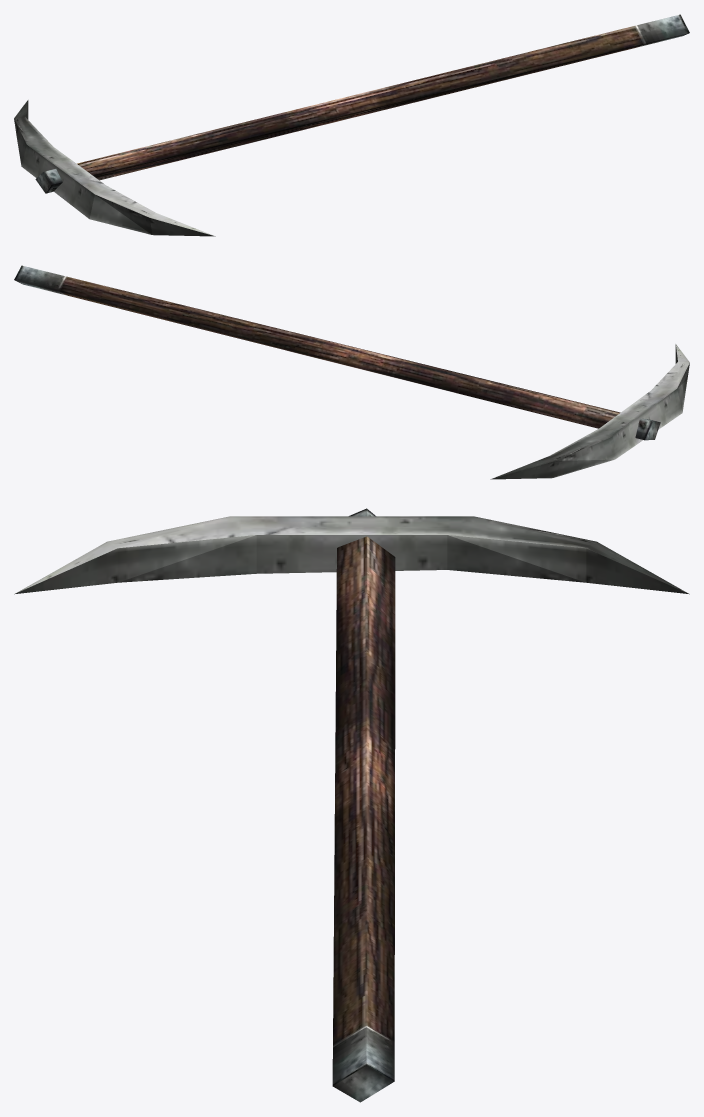
File: ITMW_020_2H_PICKAXE_01.glb
The picture shows the model from 3 angles, top to bottom: view 1: azimuth 30°, elevation 25°; view 2: azimuth 150°, elevation 25°; view 3: azimuth 270°, elevation 25°; orthographic projection. The views are drawn at different scales.
Parts seen in each view (by area): view 1: ITMW_020_2H_PICKAXE_01; view 2: ITMW_020_2H_PICKAXE_01; view 3: ITMW_020_2H_PICKAXE_01.
Boxes of the visible parts, x1,y1,x2,y2 form: ITMW_020_2H_PICKAXE_01: (14, 14, 689, 236); ITMW_020_2H_PICKAXE_01: (14, 265, 689, 479); ITMW_020_2H_PICKAXE_01: (14, 508, 689, 1102).
Bounding box in the file's own units: 0.9265 × 0.0351 × 0.4722.
2 materials, 2 textured.
